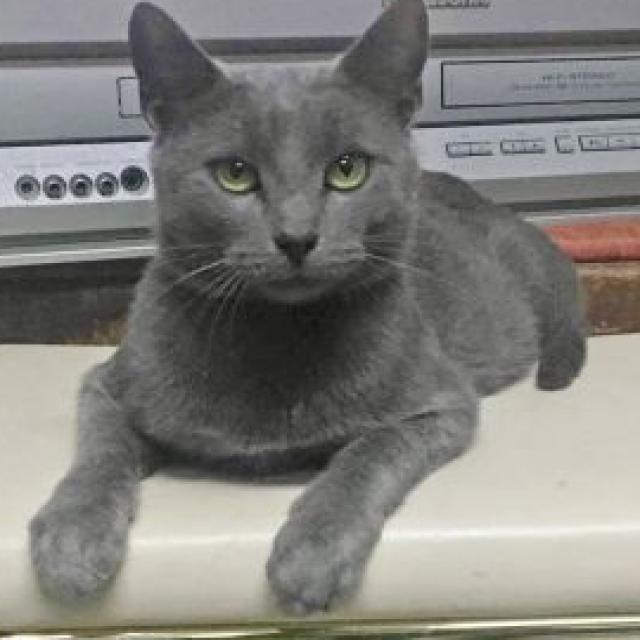Russian Blue: (21, 0, 588, 617)
